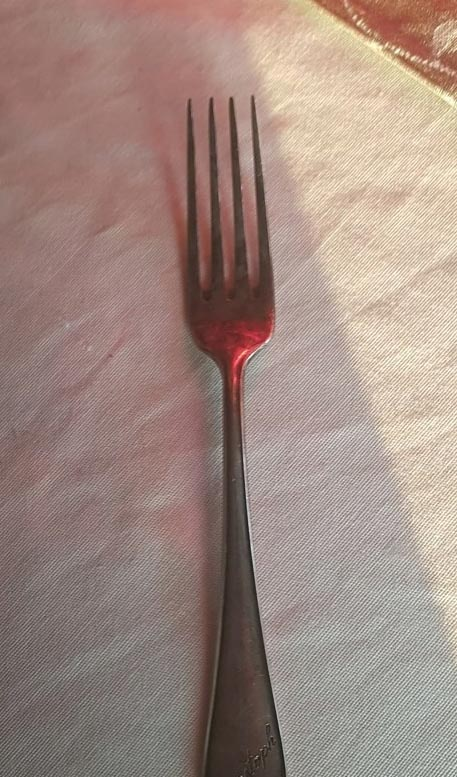Widelec: (177, 95, 285, 367)
